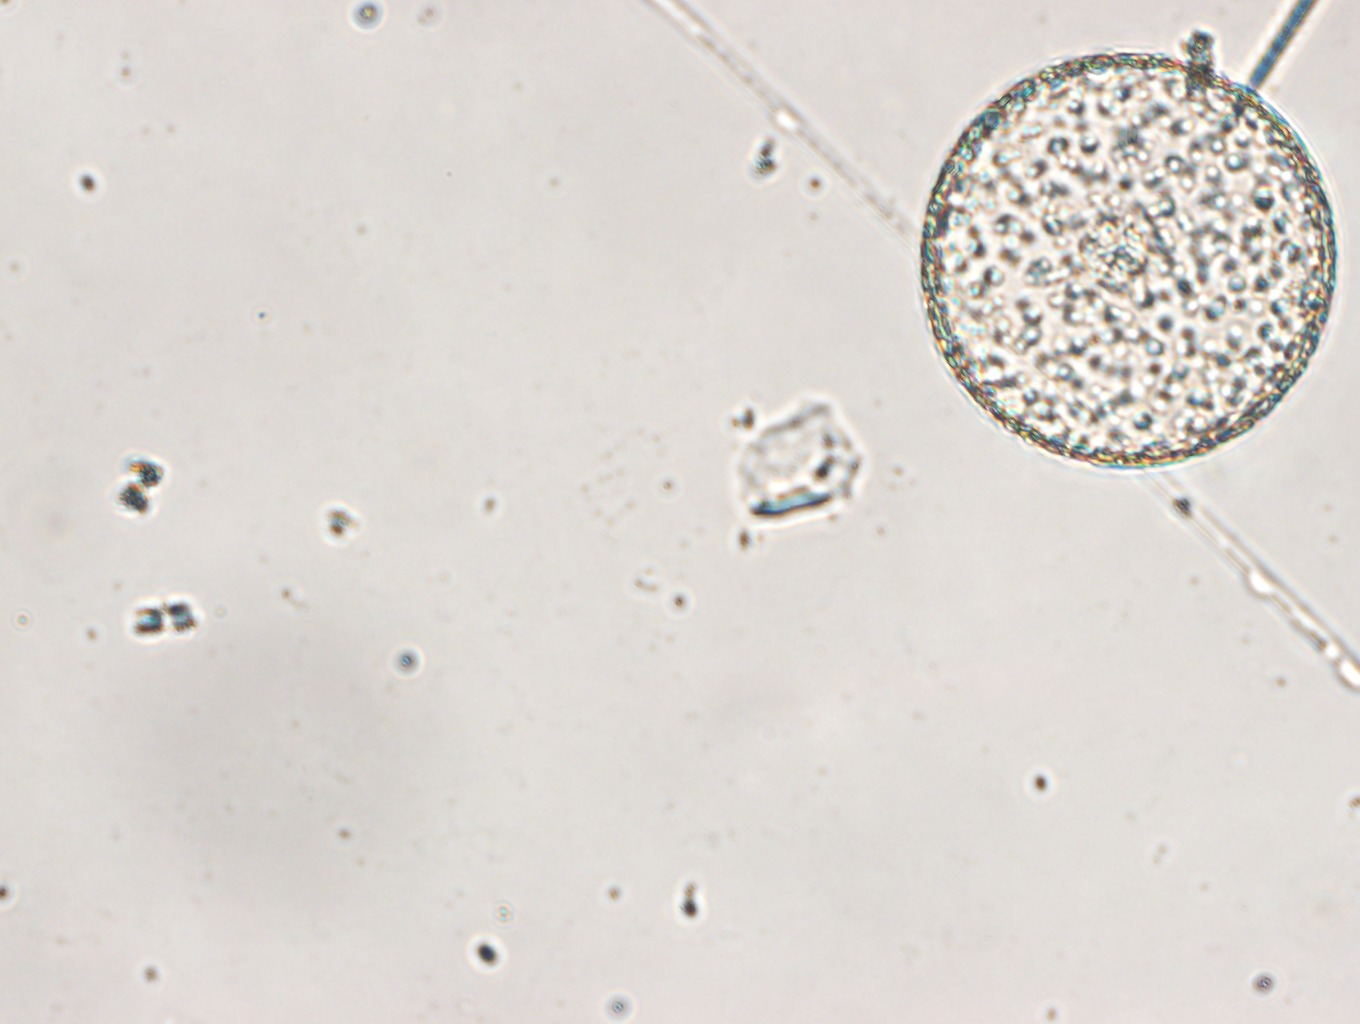coscinodiscus: (905, 53, 1346, 478)
